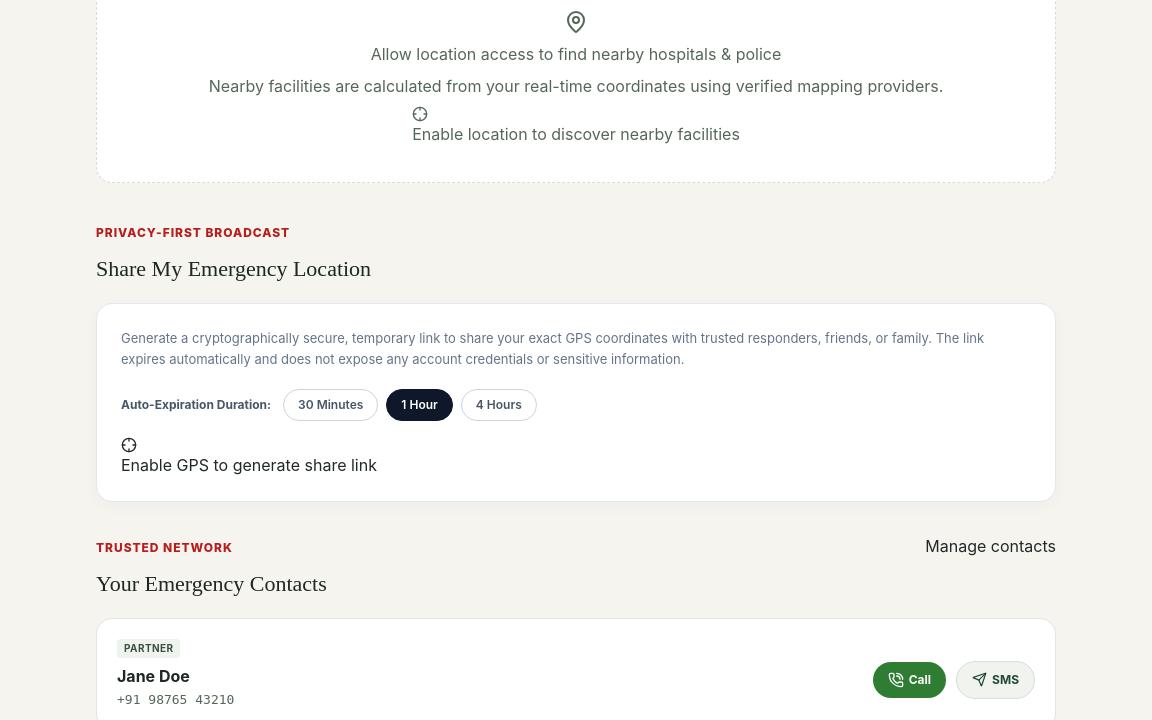
it: EmergencyPage › renders Share My Emergency Location section with duration options
The width and height of the screenshot is (1152, 720).
(page scrolled)
Expected: the heading "Share My Emergency Location" is shown, [96,252,371,285]
Expected: the button "1 Hour" is shown, [386,389,453,421]
Click the button "30 Minutes" at [331, 405], box [283,389,378,421]
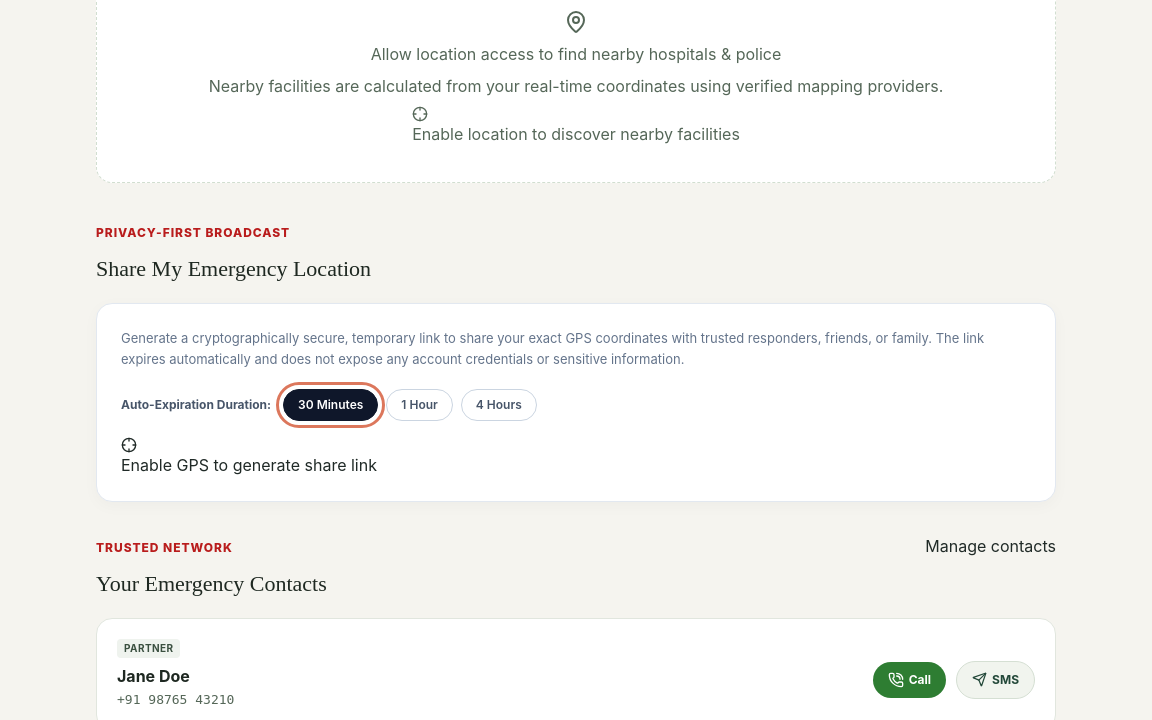
Now the button "30 Minutes" has class "active", box [283,389,378,421]
